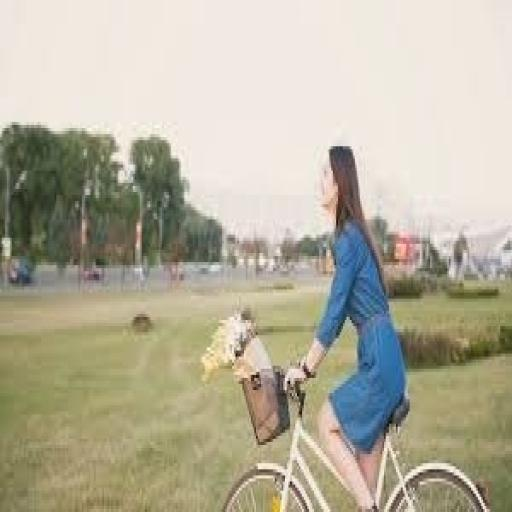cycling: (282, 140, 411, 509)
